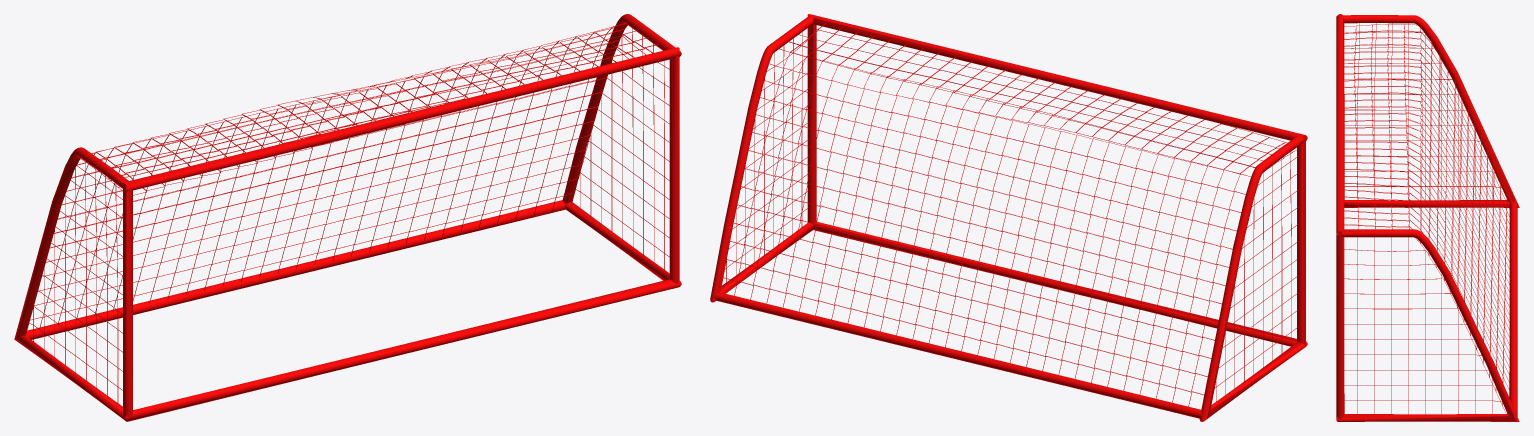
The model's file is goal.gltf.
3 views of the same model, side by side, from view 1: azimuth 30°, elevation 25°; view 2: azimuth 150°, elevation 25°; view 3: azimuth 270°, elevation 25° (orthographic). The views are drawn at different scales.
Parts seen in each view (by area): view 1: Object_2, Object_3; view 2: Object_2, Object_3; view 3: Object_3, Object_2.
Boxes of the visible parts, <box> form: Object_2: <box>14,14,681,421</box>; Object_3: <box>28,22,669,403</box>; Object_2: <box>710,14,1307,421</box>; Object_3: <box>723,22,1298,406</box>; Object_3: <box>1344,23,1512,414</box>; Object_2: <box>1336,14,1519,421</box>.
Size of the model in its own units: 508 by 209 by 181.
